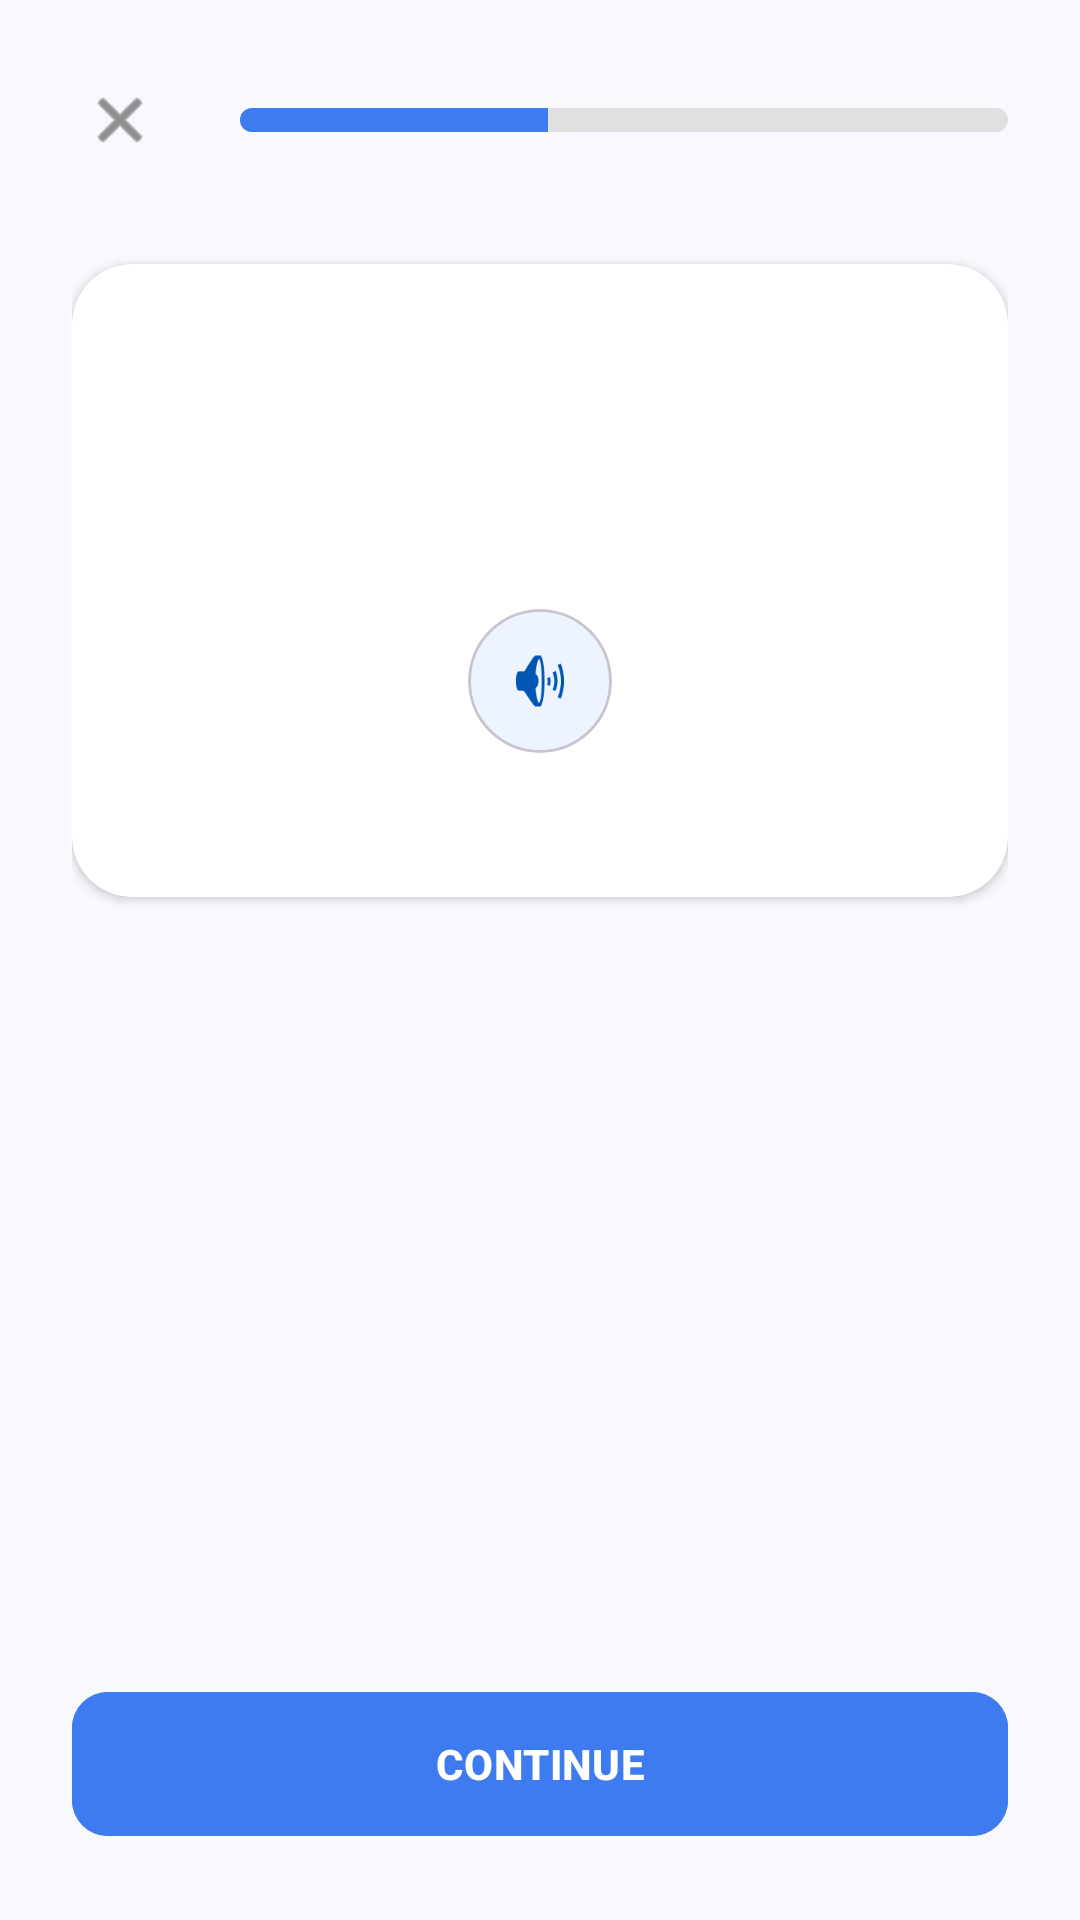

Named icons in this screenshot (1080w x 1920h) and their centers, (x=x, y=y):
close clear cancel: (x=120, y=120)
